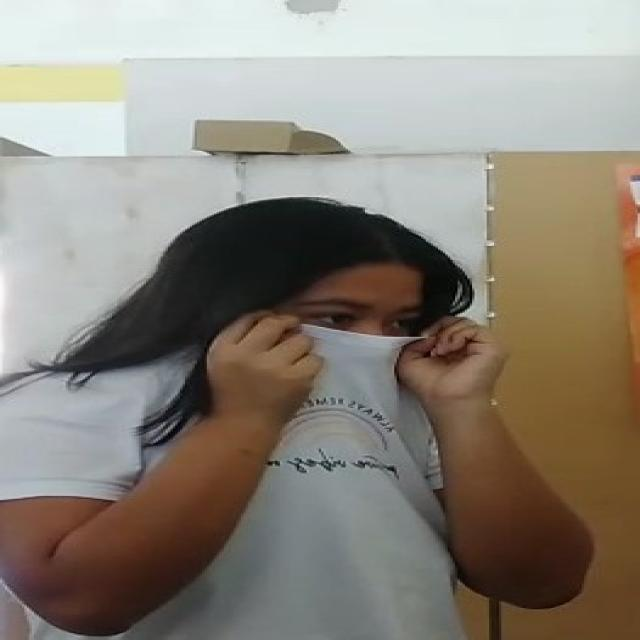8_ropa_rostro: (201, 310, 480, 450)
